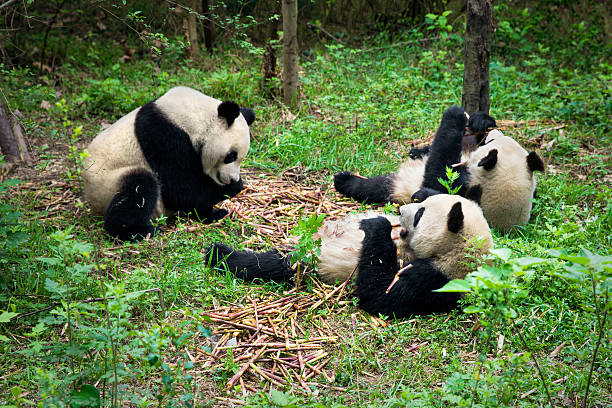panda: (391, 191, 497, 271), (186, 87, 263, 196)
